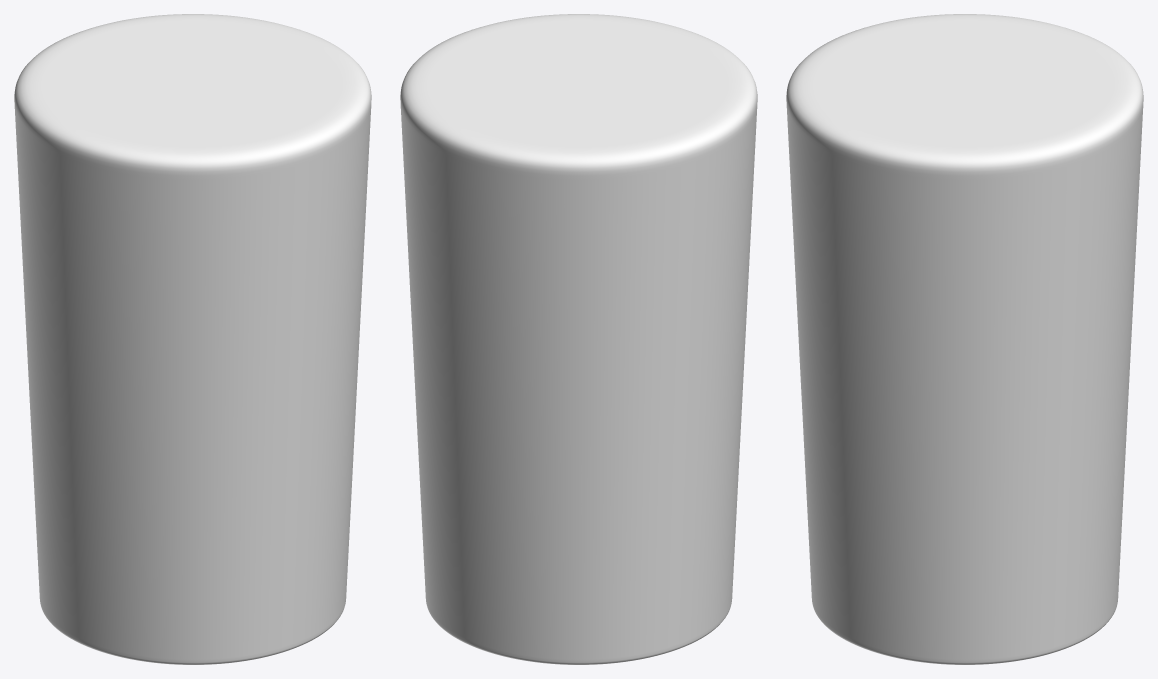
The picture shows the model from 3 angles, left to right: view 1: azimuth 30°, elevation 25°; view 2: azimuth 150°, elevation 25°; view 3: azimuth 270°, elevation 25°; orthographic projection.
Visible parts, largest first — view 1: GlassTallVintage001.001; view 2: GlassTallVintage001.001; view 3: GlassTallVintage001.001.
Boxes of the visible parts, bbox=[...] form: GlassTallVintage001.001: bbox=[14, 14, 371, 664]; GlassTallVintage001.001: bbox=[400, 14, 757, 664]; GlassTallVintage001.001: bbox=[786, 14, 1143, 664].
Bounding box in the file's own units: 58.89 × 94.11 × 58.89.
1 material, 1 textured.
